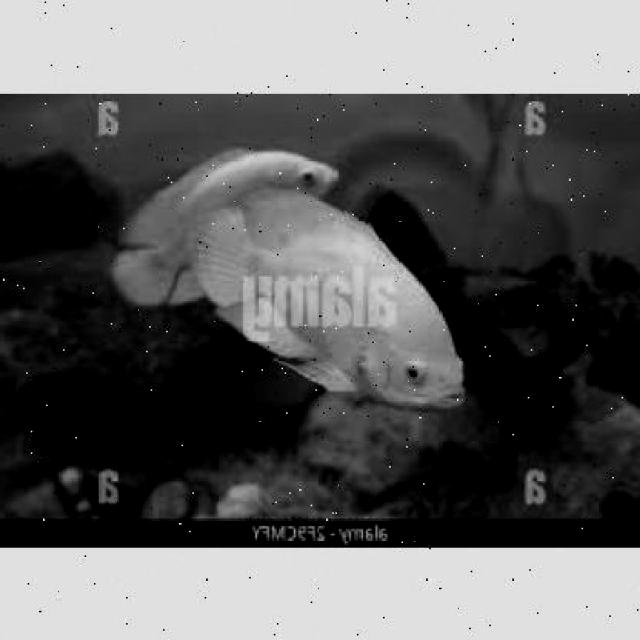gurame: (210, 200, 467, 418)
